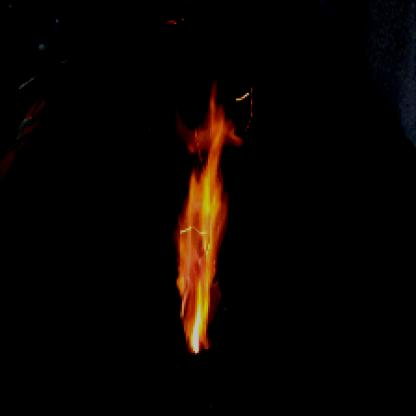Fire: (167, 72, 253, 355)
